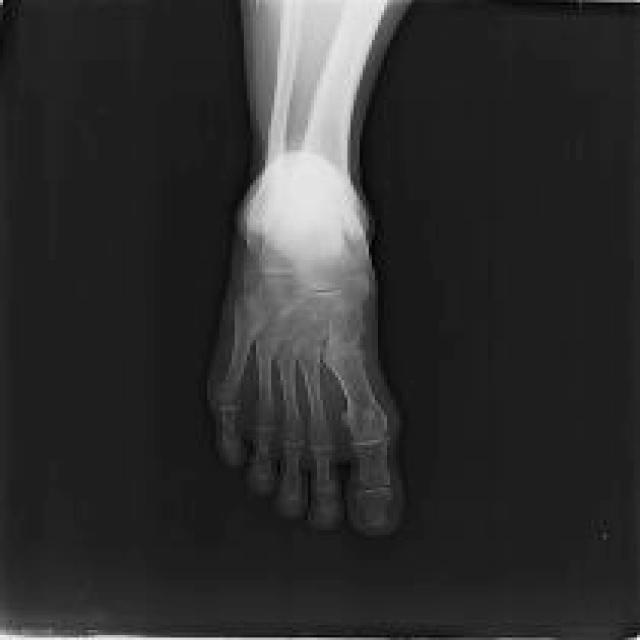normal: (215, 0, 405, 536)
